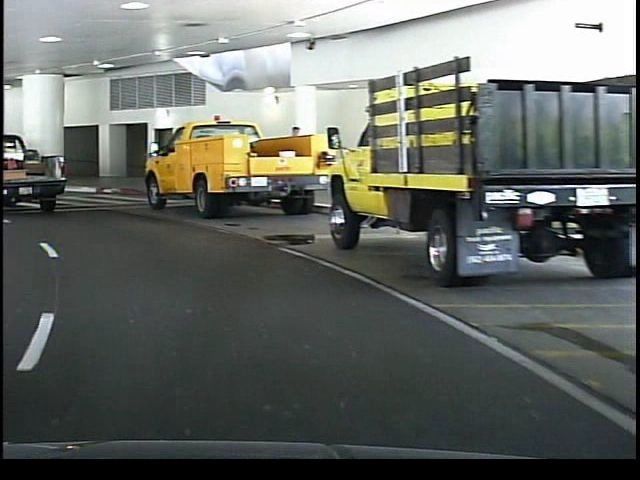person: (281, 120, 306, 199)
